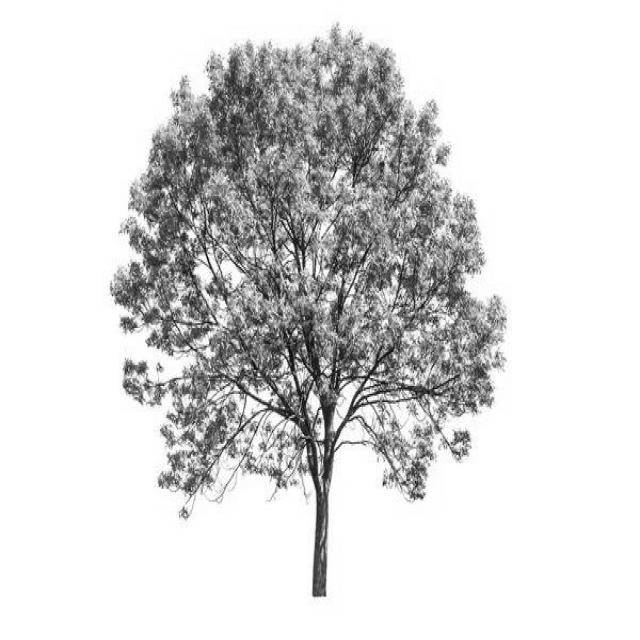Tree: (111, 28, 507, 598)
